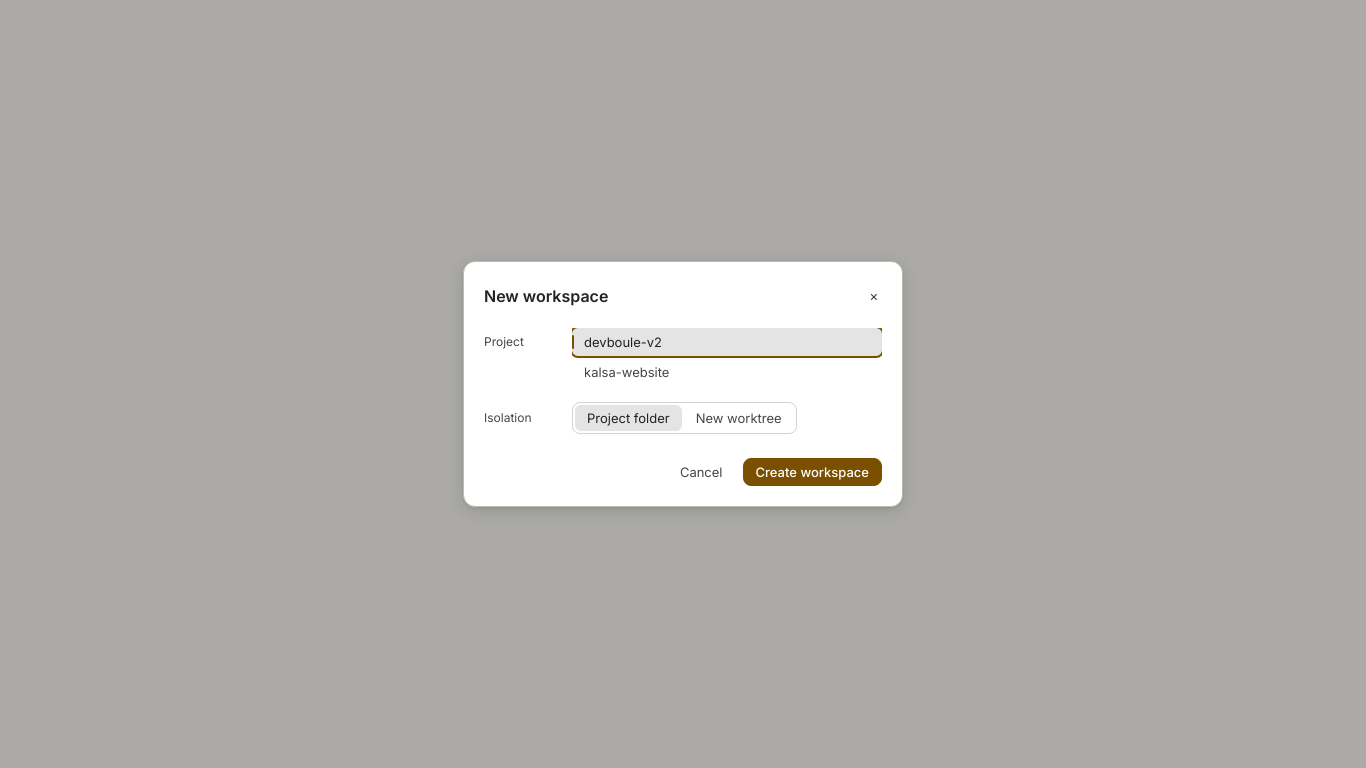
Test case: the answers › shows a refusal as its own sentence and keeps the sheet open
This screenshot has width=1366, height=768.
Click the radio button labelled "New worktree".
click(739, 418)  # box [684,405,794,431]
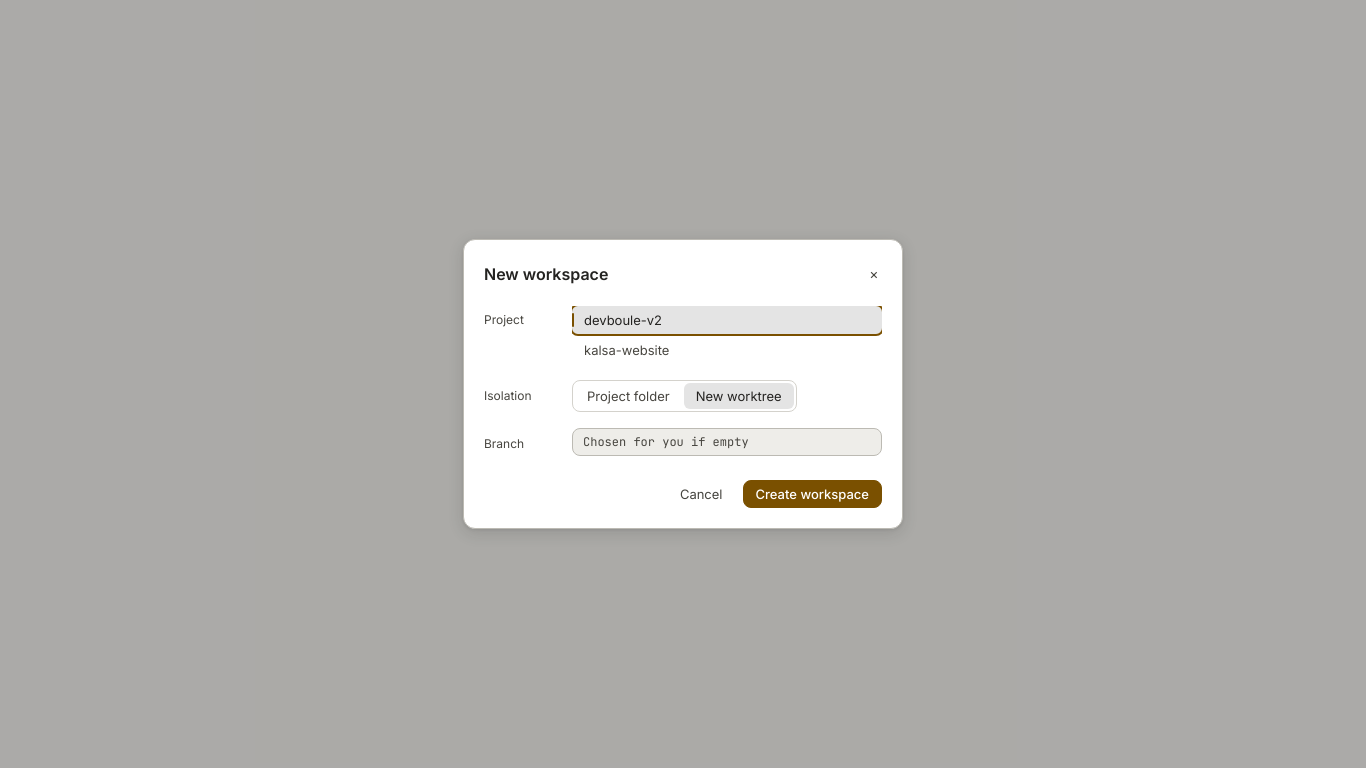
Submit the form, box [484,304,882,508]
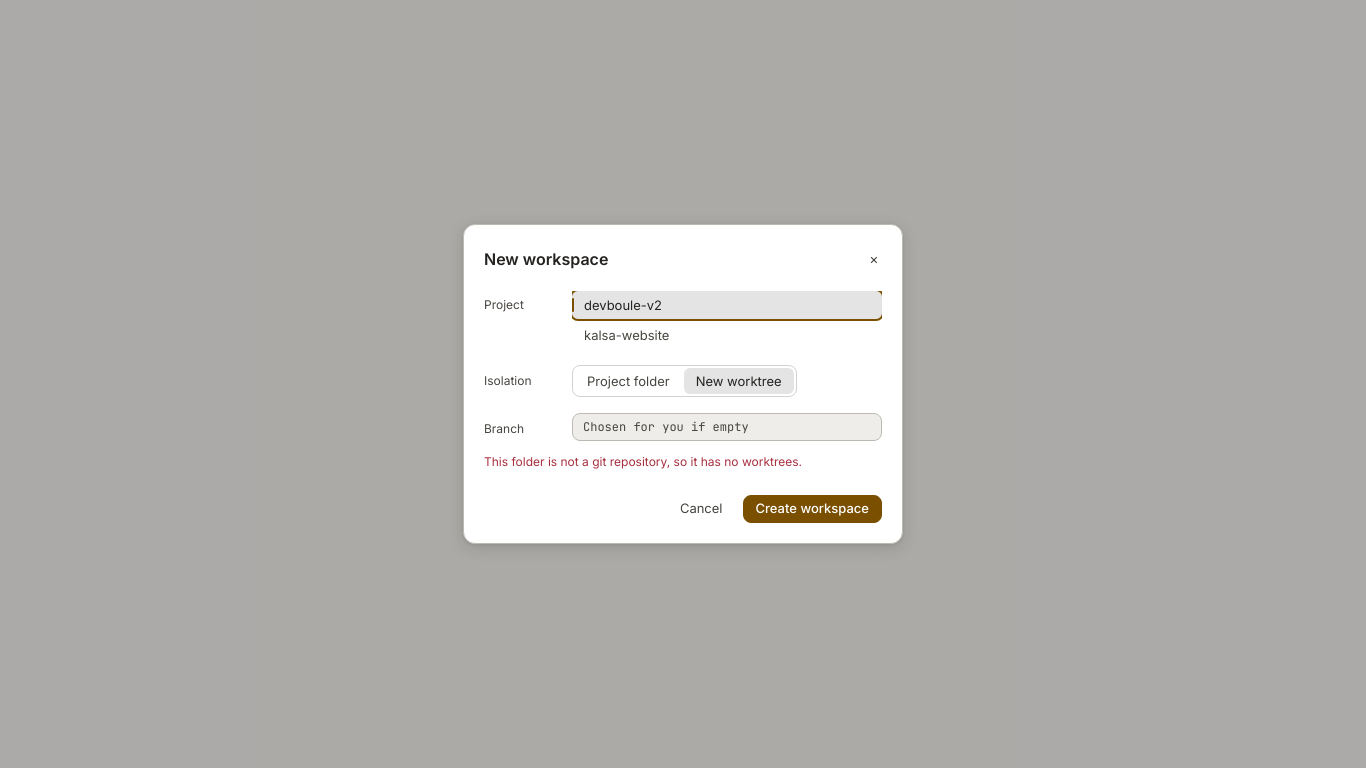
Expected: the dialog is shown, [463,224,903,544]
Result: the message "This folder is not a git repository, so it has no worktrees." is shown at [484,454,802,469]
